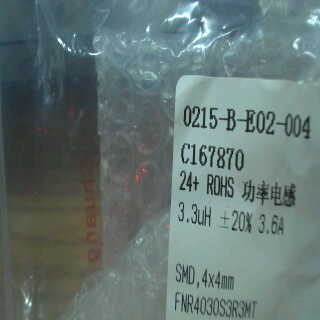3.3uH: (171, 198, 215, 232)
